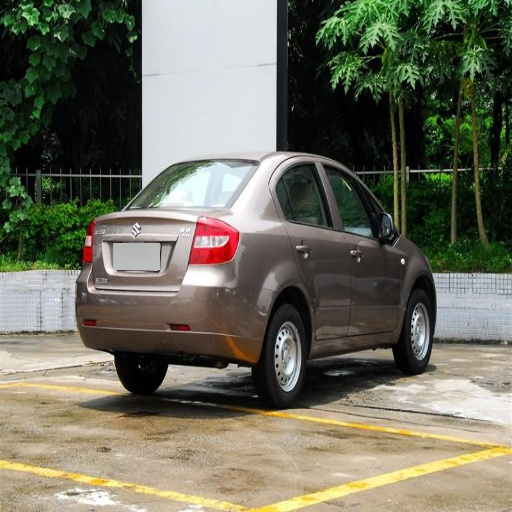back_bumper: (75, 258, 272, 360)
back_right_door: (278, 159, 351, 347)
